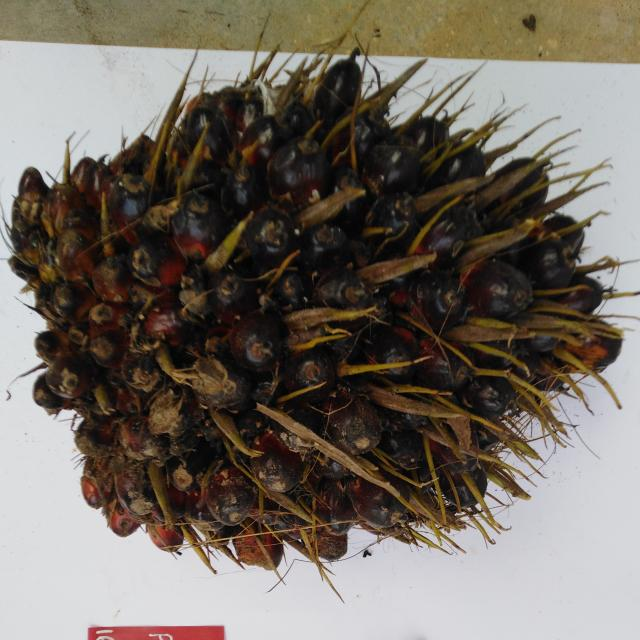FFB: (24, 67, 607, 566)
